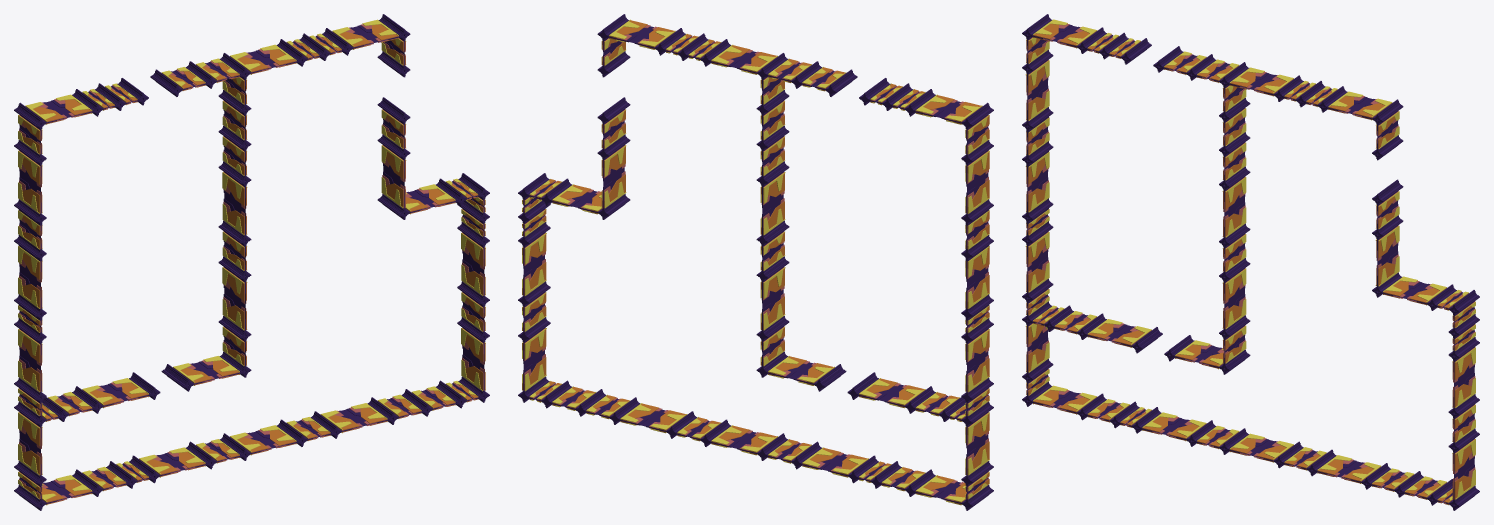
File: level1 2.0.fbx
3 views of the same model, side by side, from view 1: azimuth 30°, elevation 25°; view 2: azimuth 150°, elevation 25°; view 3: azimuth 330°, elevation 25° (orthographic). The views are drawn at different scales.
Parts seen in each view (by area): view 1: LEVEL1, base3_2, 4 base_2, base2_2; view 2: LEVEL1, base3_2, 4 base_2, base2_2; view 3: LEVEL1, base3_2, 4 base_2, base2_2.
Part boxes in pixels (box(x1,y1,x2,y2)): LEVEL1: box(14, 14, 489, 510); base3_2: box(19, 26, 484, 500); 4 base_2: box(19, 41, 484, 488); base2_2: box(19, 36, 484, 495); LEVEL1: box(518, 14, 993, 510); base3_2: box(523, 26, 988, 500); 4 base_2: box(523, 41, 988, 487); base2_2: box(523, 36, 988, 493); LEVEL1: box(1022, 14, 1479, 510); base3_2: box(1027, 25, 1474, 488); 4 base_2: box(1027, 40, 1474, 496); base2_2: box(1027, 35, 1474, 502).
Size of the model in its own units: 8000 by 6600 by 650.
